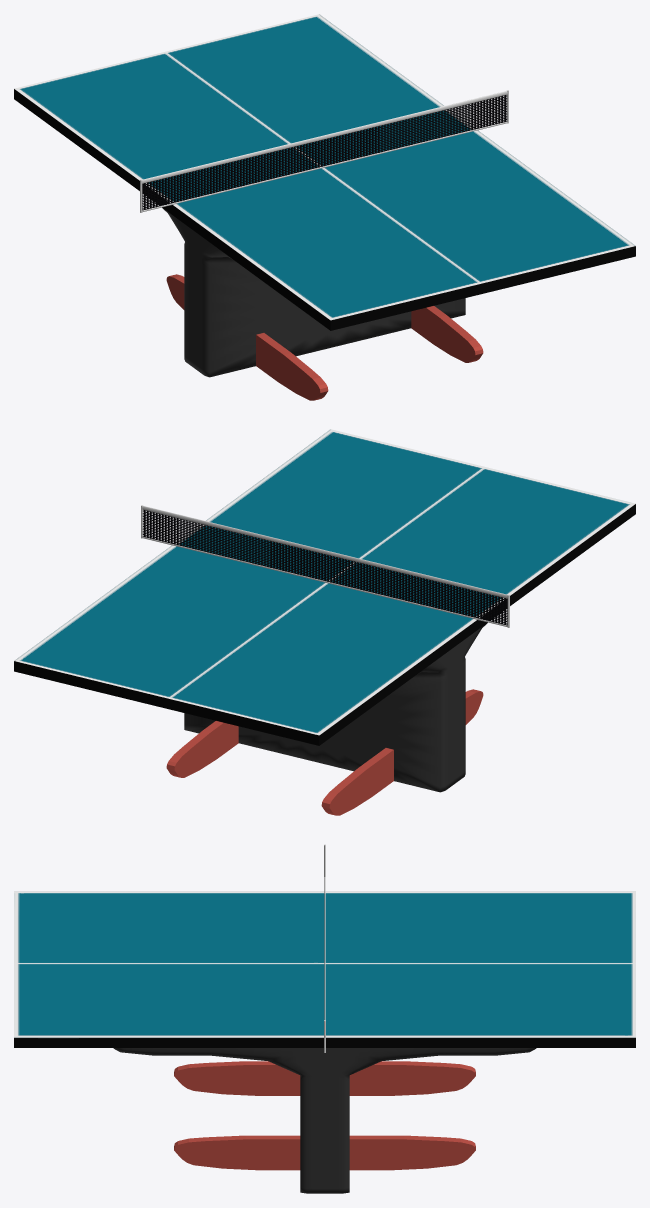
File: TokyoTable.fbx
3 renders of one model, top to bottom at view 1: azimuth 30°, elevation 25°; view 2: azimuth 150°, elevation 25°; view 3: azimuth 270°, elevation 25°, orthographic.
Parts seen in each view (by area): view 1: TableMian, TableXia, TableWang, TableTui, TableShangXia; view 2: TableMian, TableXia, TableWang, TableTui, TableShangXia; view 3: TableMian, TableTui, TableXia.
Part boxes in pixels (x1,y1,x2,y2): TableMian: [14, 14, 635, 330]; TableXia: [162, 208, 465, 377]; TableWang: [142, 95, 507, 210]; TableTui: [166, 274, 483, 400]; TableShangXia: [142, 91, 507, 212]; TableMian: [14, 429, 635, 745]; TableXia: [184, 623, 487, 792]; TableWang: [142, 510, 507, 625]; TableTui: [166, 689, 483, 815]; TableShangXia: [142, 506, 507, 627]; TableMian: [14, 891, 635, 1047]; TableTui: [174, 1061, 475, 1170]; TableXia: [113, 1048, 536, 1193].
Size of the model in its own units: 184 by 96.31 by 274.
